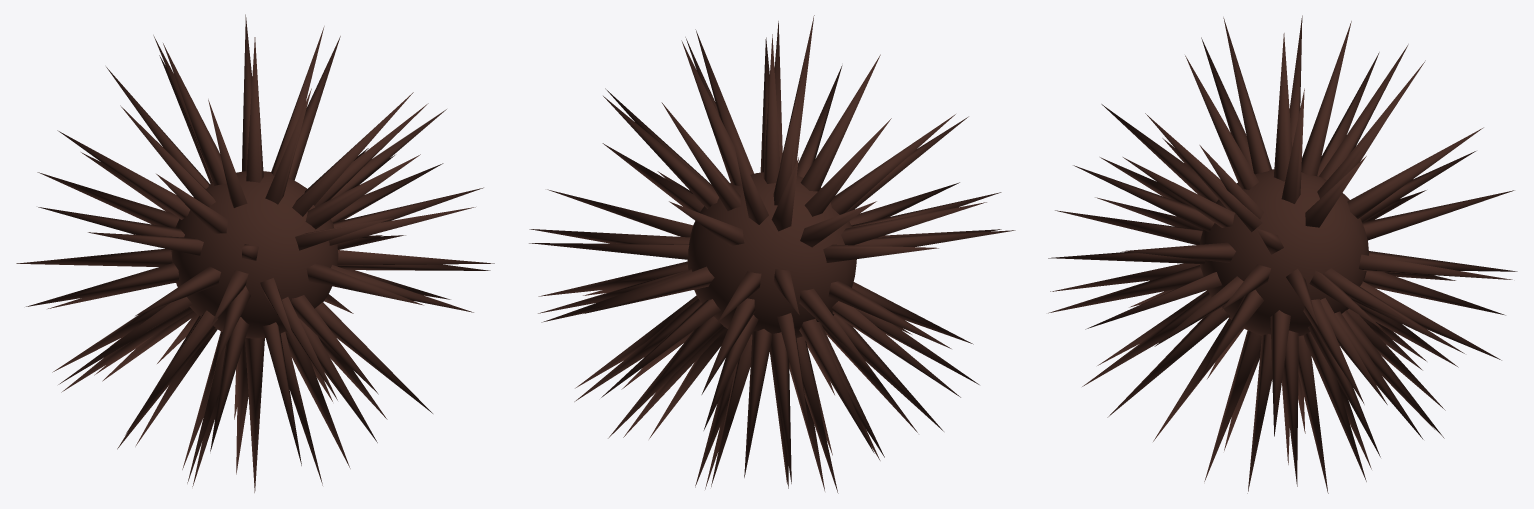
The model's file is M_kuri.fbx.
3 views of the same model, side by side, from view 1: azimuth 30°, elevation 25°; view 2: azimuth 150°, elevation 25°; view 3: azimuth 270°, elevation 25° (orthographic).
Parts seen in each view (by area): view 1: M_kuri1; view 2: M_kuri1; view 3: M_kuri1.
Boxes of the visible parts, left/top/right/bottom form: M_kuri1: left=16, top=14, right=494, bottom=492; M_kuri1: left=529, top=15, right=1015, bottom=493; M_kuri1: left=1048, top=15, right=1517, bottom=493.
Size of the model in its own units: 5.64 by 5.77 by 5.56.
